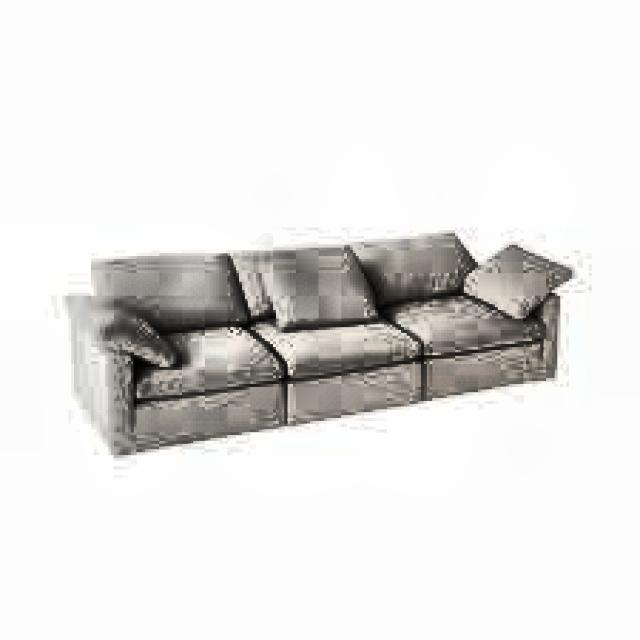sofa: (46, 236, 592, 455)
